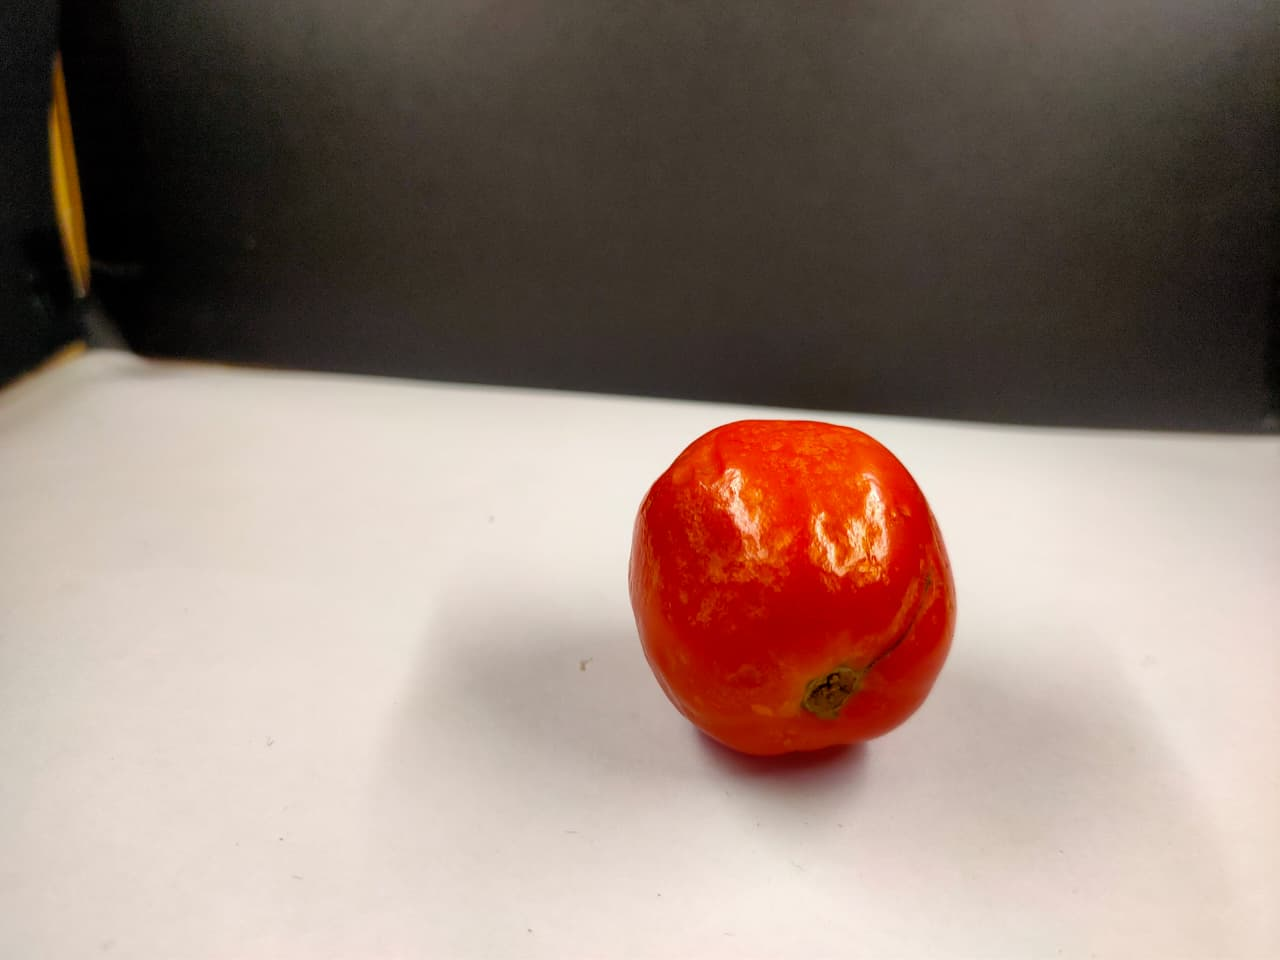damaged: (631, 419, 961, 768)
